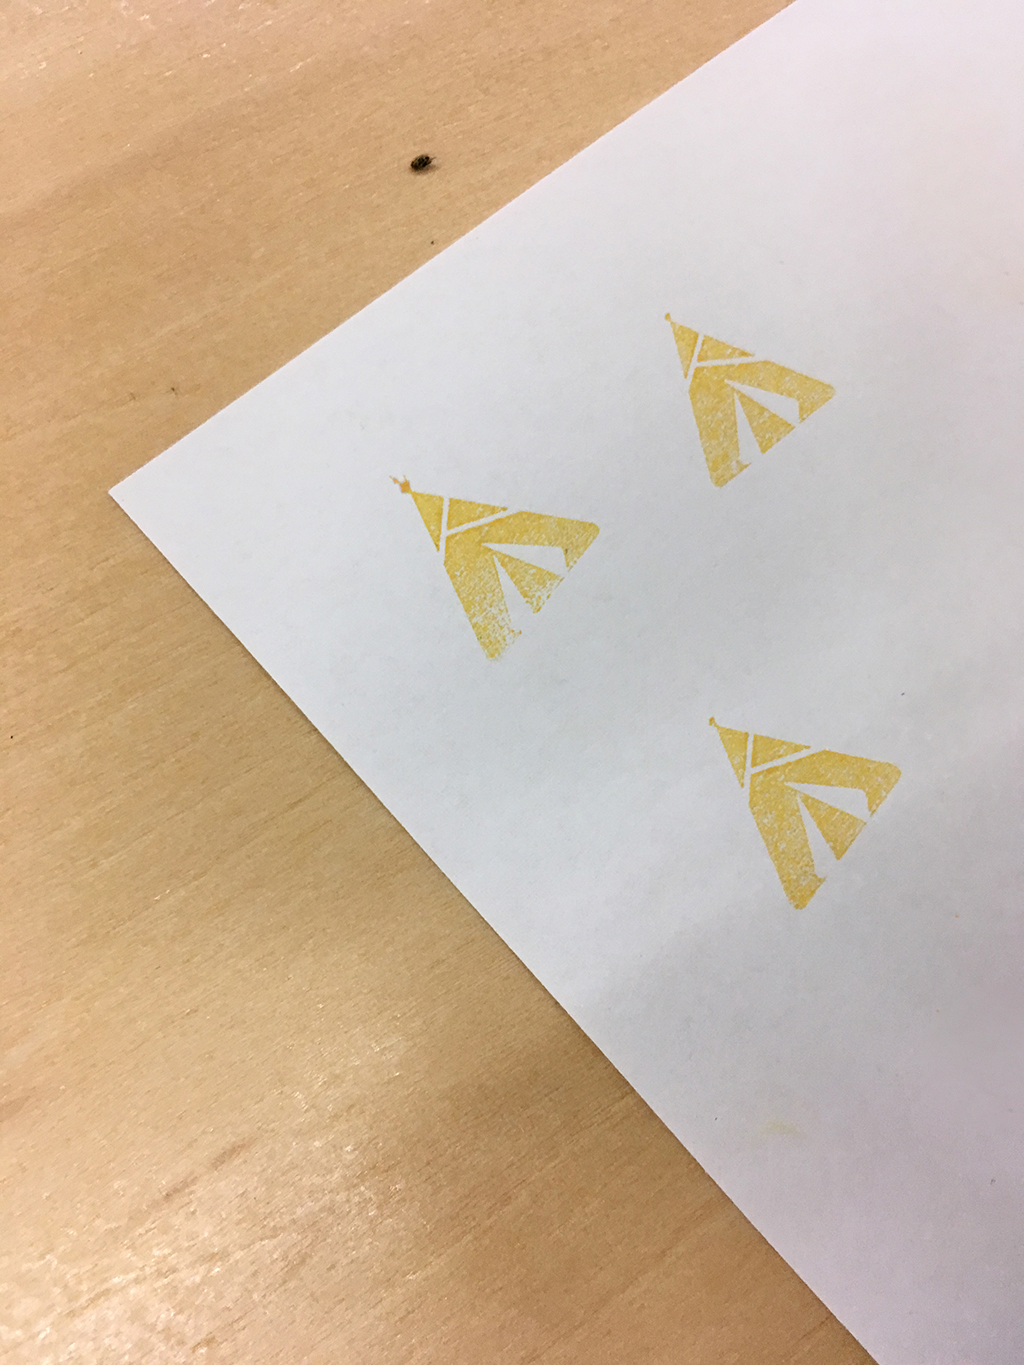tent: (375, 461, 617, 674), (694, 708, 912, 916), (650, 305, 851, 498)
